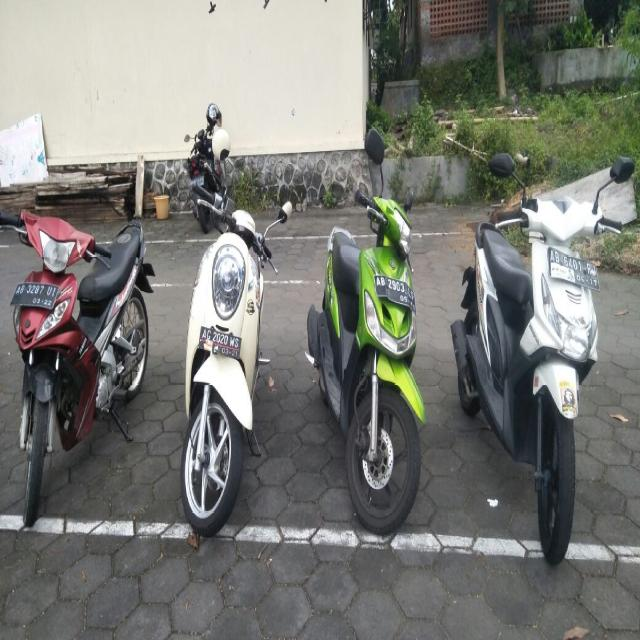plate: (546, 243, 600, 290), (374, 272, 416, 313), (198, 324, 241, 358), (8, 281, 58, 308)
